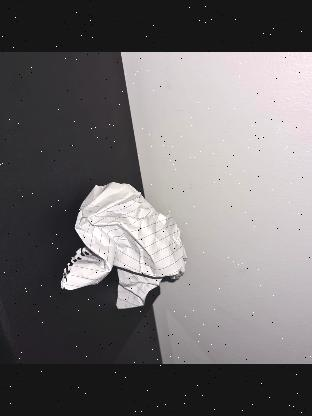Others: (58, 178, 184, 318)
